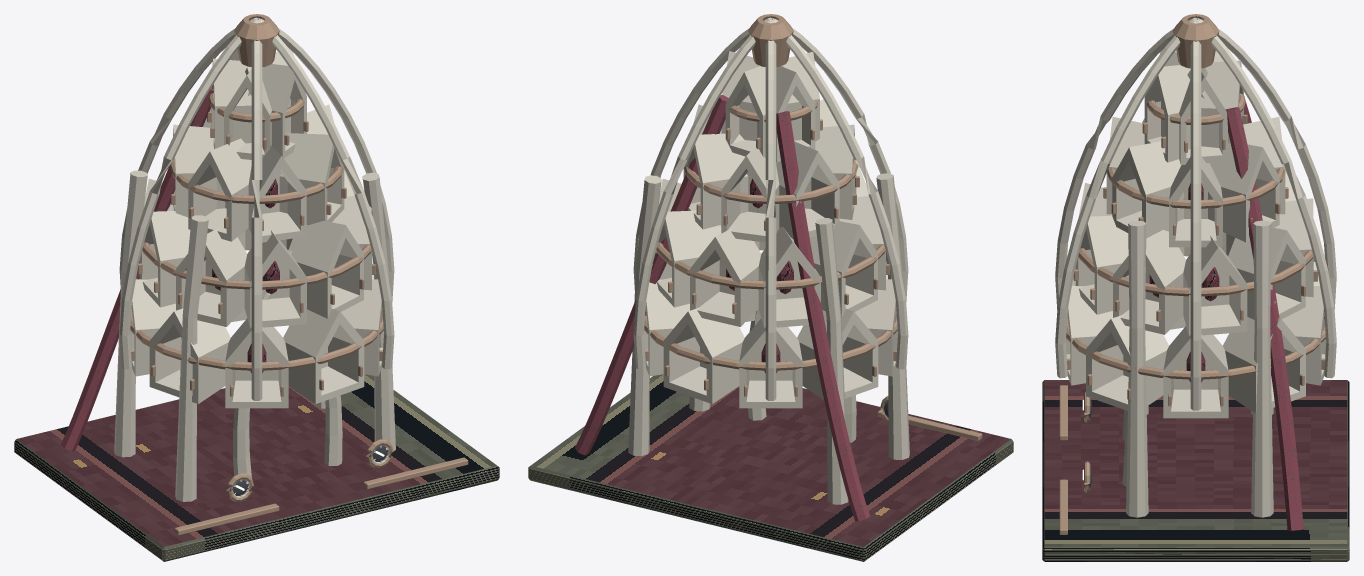
The model's file is heart_cell_crown.glb.
The picture shows the model from 3 angles, left to right: view 1: azimuth 30°, elevation 25°; view 2: azimuth 150°, elevation 25°; view 3: azimuth 270°, elevation 25°; orthographic projection. The views are drawn at different scales.
Parts seen in each view (by area): view 1: heart_cell_crown_warm, heart_cell_crown_petrol, heart_cell_crown_worn, heart_cell_crown_bruised; view 2: heart_cell_crown_warm, heart_cell_crown_petrol, heart_cell_crown_bruised, heart_cell_crown_worn; view 3: heart_cell_crown_warm, heart_cell_crown_petrol, heart_cell_crown_worn, heart_cell_crown_bruised.
Boxes of the visible parts, x1,y1,x2,y2 form: heart_cell_crown_warm: [114, 17, 395, 501]; heart_cell_crown_petrol: [14, 374, 499, 561]; heart_cell_crown_worn: [130, 14, 468, 535]; heart_cell_crown_bruised: [61, 88, 279, 451]; heart_cell_crown_warm: [628, 17, 909, 504]; heart_cell_crown_petrol: [528, 374, 1013, 561]; heart_cell_crown_bruised: [575, 95, 869, 521]; heart_cell_crown_worn: [644, 14, 982, 440]; heart_cell_crown_warm: [1055, 17, 1336, 517]; heart_cell_crown_petrol: [1042, 380, 1349, 561]; heart_cell_crown_worn: [1059, 14, 1325, 534]; heart_cell_crown_bruised: [1149, 96, 1303, 530].
Size of the model in its own units: 5.65 by 7.18 by 4.35.
6 materials, 2 textured.
